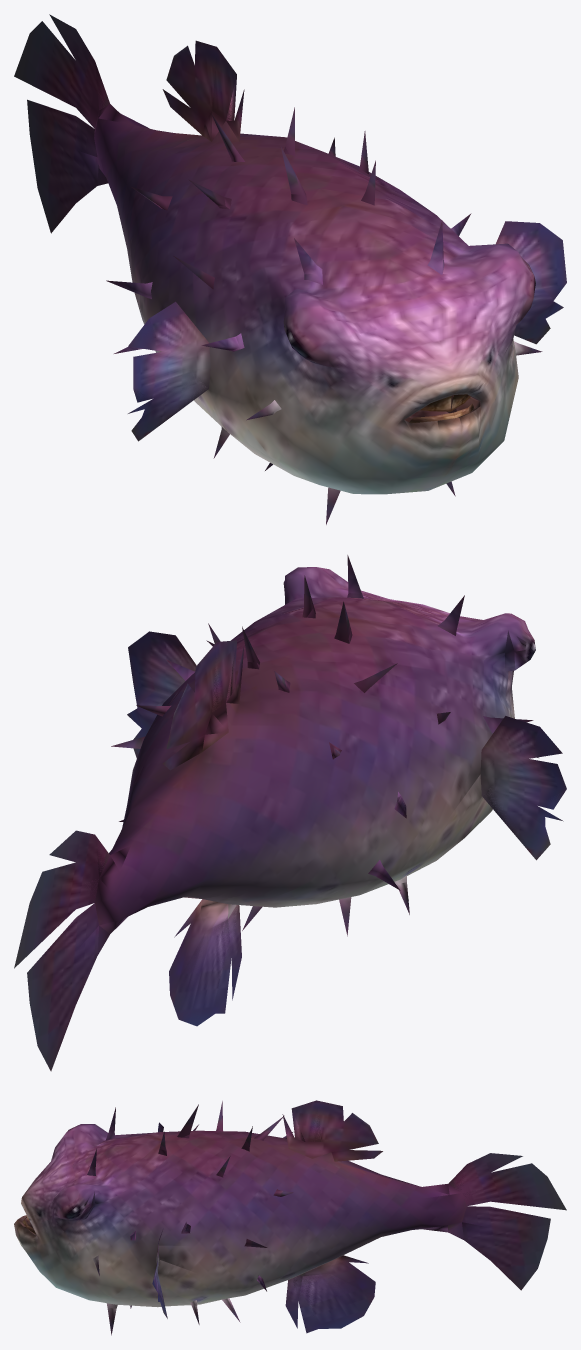
The model's file is google poly.obj.
3 views of the same model, one above another, from view 1: azimuth 30°, elevation 25°; view 2: azimuth 150°, elevation 25°; view 3: azimuth 270°, elevation 25° (orthographic). The views are drawn at different scales.
Visible parts, largest first — view 1: cadnav; view 2: cadnav; view 3: cadnav.
Part boxes in pixels (<box>): cadnav: <box>14,14,566,524</box>; cadnav: <box>14,555,566,1071</box>; cadnav: <box>14,1100,566,1335</box>.
Size of the model in its own units: 18.12 by 14.95 by 32.16.
Materials: 1 (1 with a texture image).
